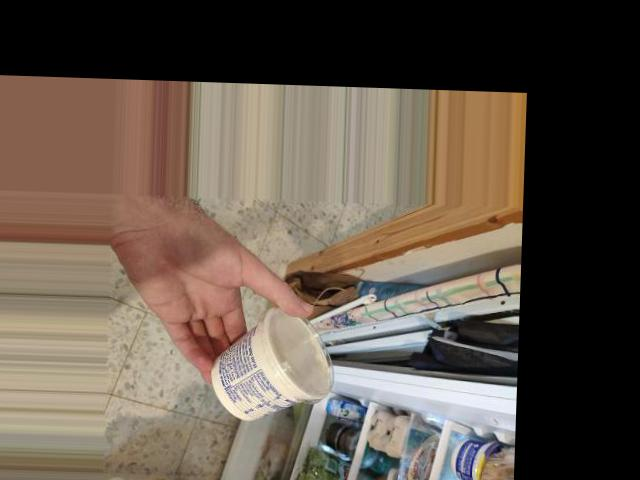cotage: (220, 300, 336, 420)
